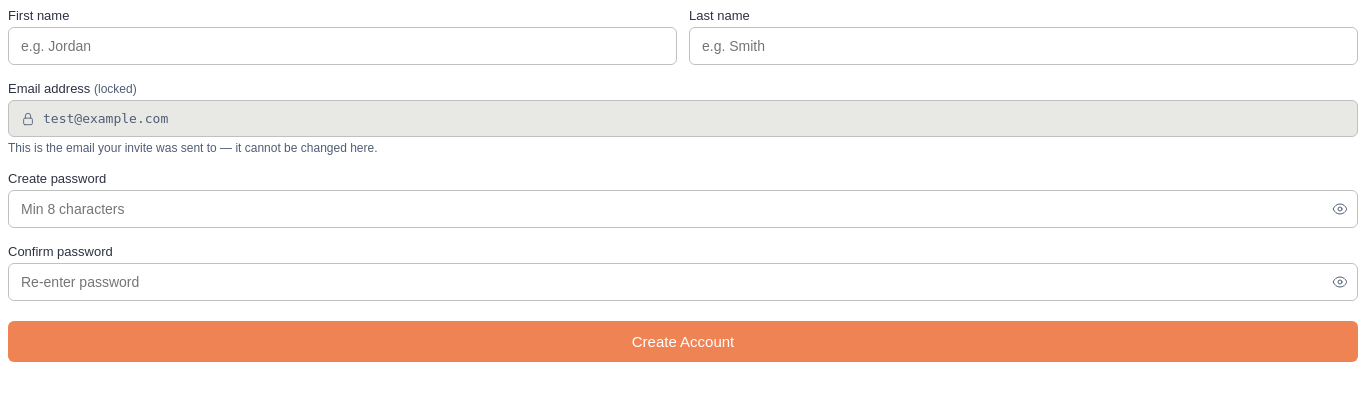
Test: AccountSetupForm › shows Fair strength for moderate password
In the password field labelled "Create password": (683, 209) [8,190,1358,228], type "abcdefg1"
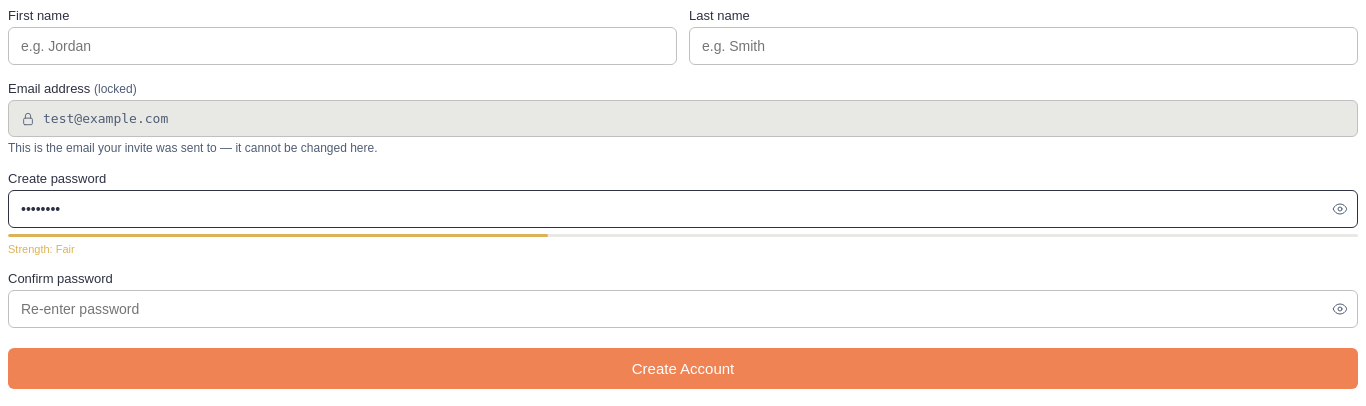
Now the text "Strength: Fair" is shown, box [8,243,75,255]
